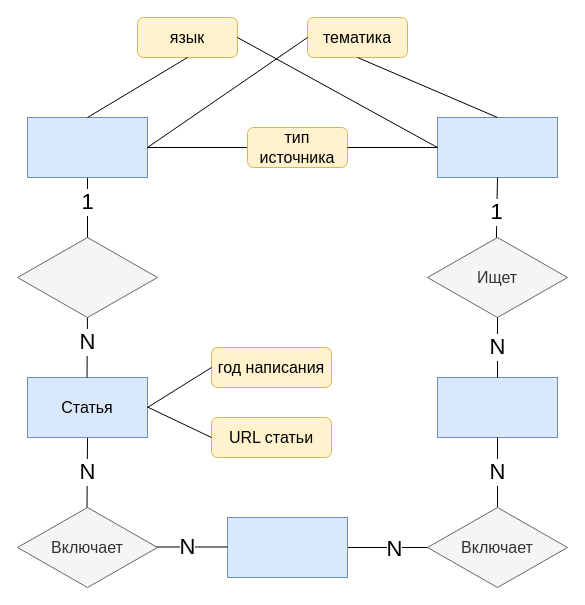
This 585x605 diagram has some shape labels left out. Each missing label, with the centre of its shape:
Источник: the point at 87,147
Клиент: the point at 497,147
Находится: the point at 87,277
Предложение: the point at 287,547
Слово: the point at 497,407
